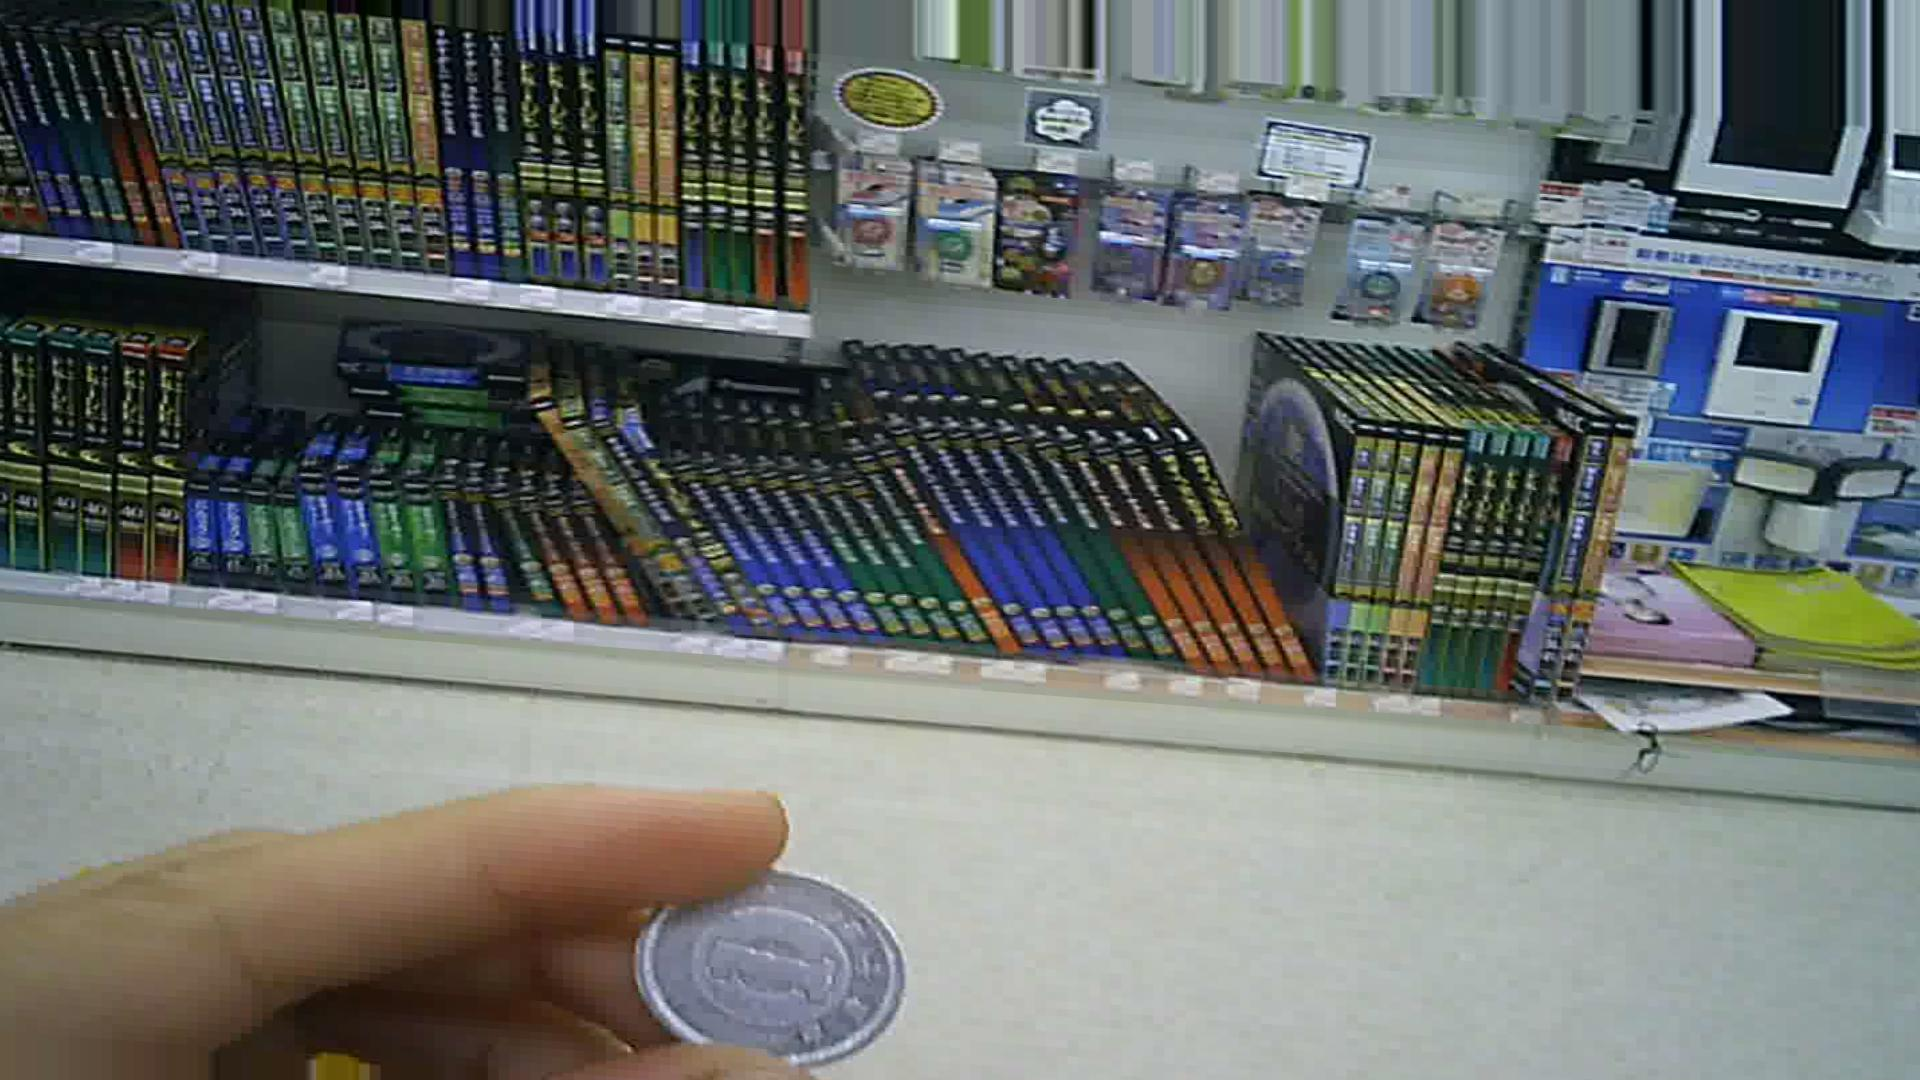1 Yen: (617, 847, 924, 1073)
